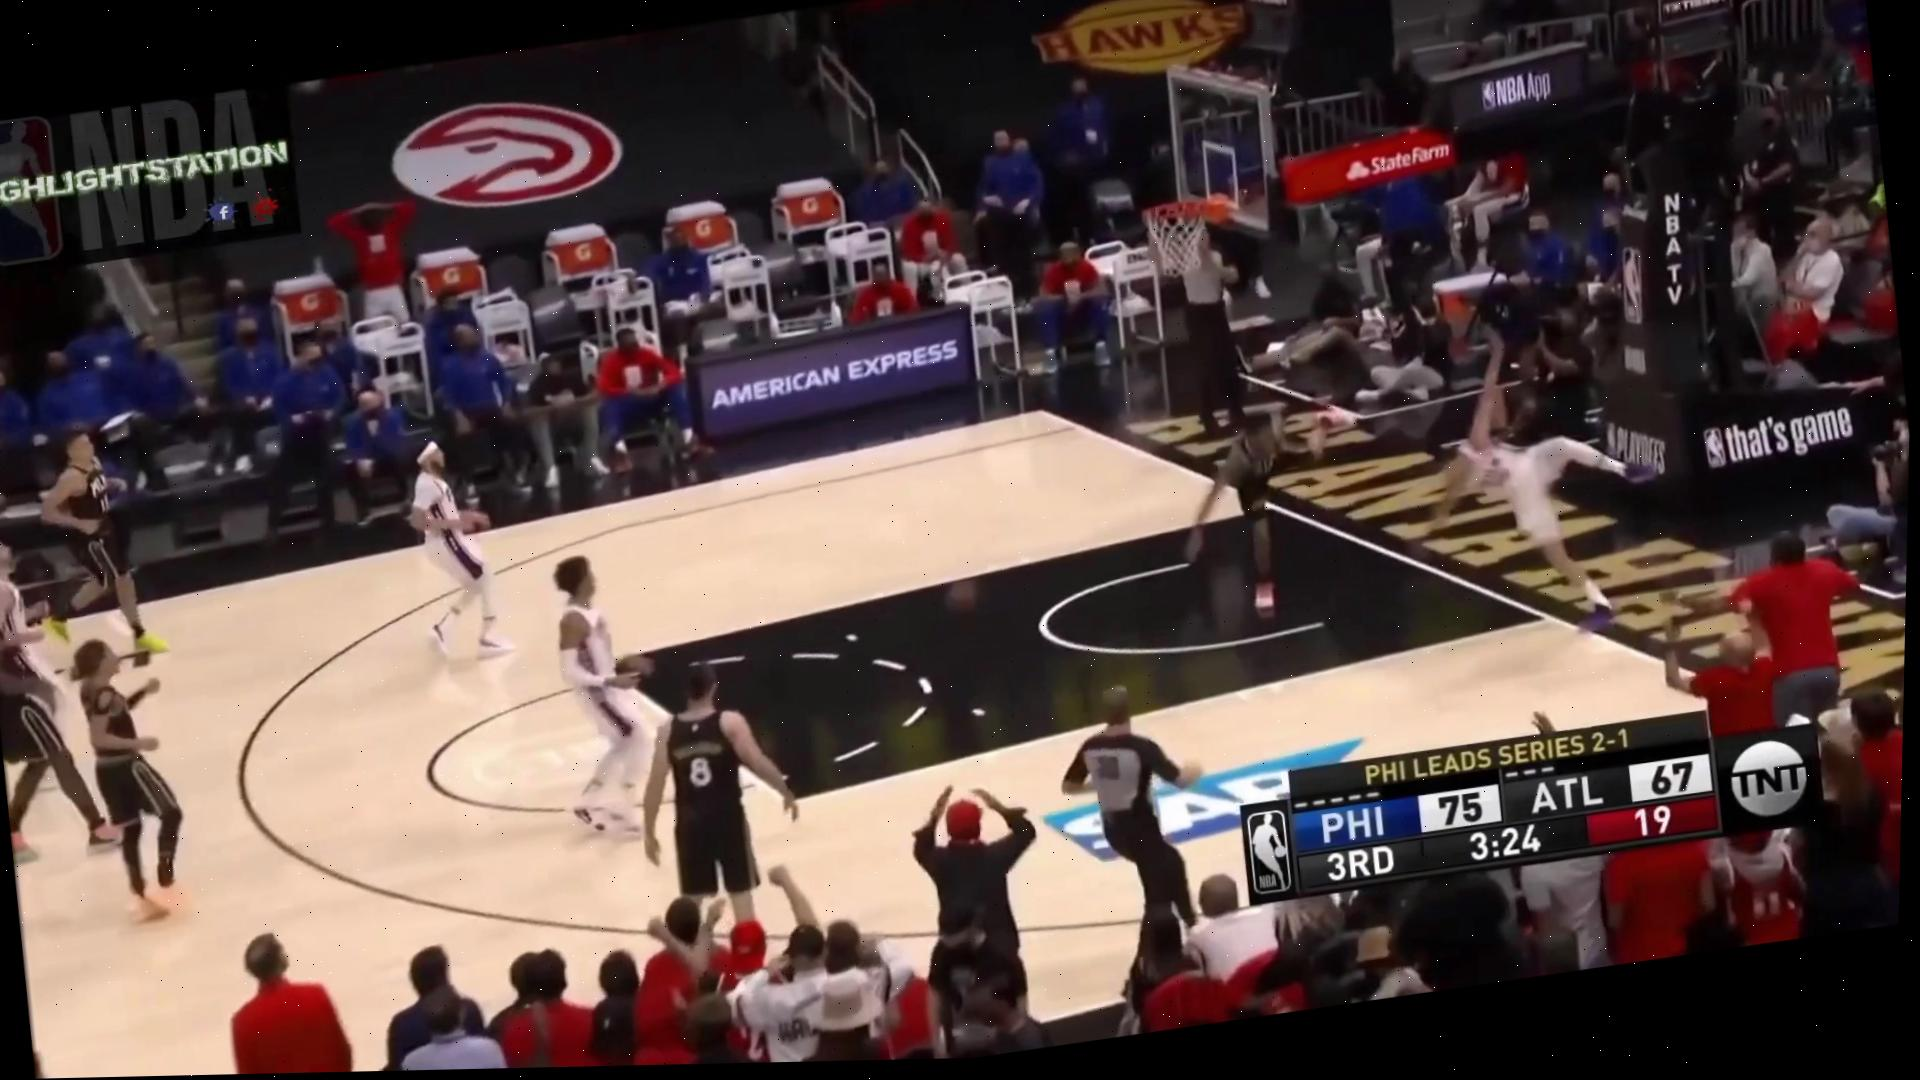no_foul: (530, 520, 796, 922)
